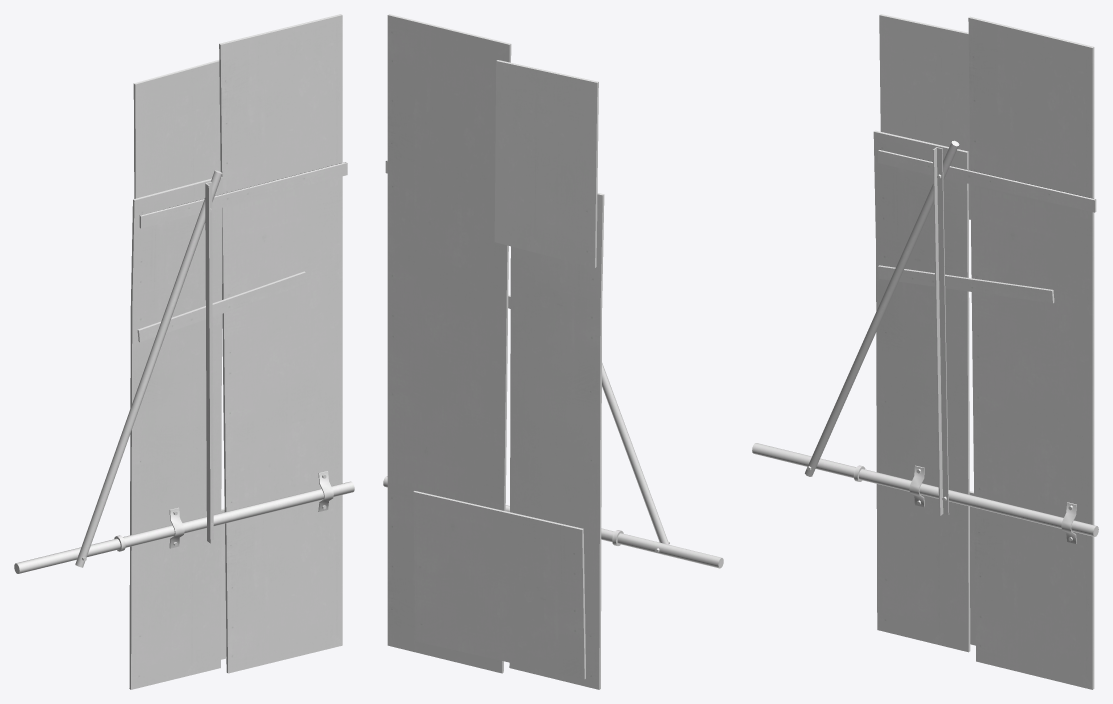
File: M_RunnerObjects_Wood_White_001.dae
The picture shows the model from 3 angles, left to right: view 1: azimuth 30°, elevation 25°; view 2: azimuth 150°, elevation 25°; view 3: azimuth 330°, elevation 25°; orthographic projection.
Parts seen in each view (by area): view 1: S_RunnerSign_02.001, S_RunnerSign_02.002; view 2: S_RunnerSign_02.001, S_RunnerSign_02.002; view 3: S_RunnerSign_02.001, S_RunnerSign_02.002.
Part boxes in pixels (bbox=[...]): S_RunnerSign_02.001: bbox=[129, 14, 347, 689]; S_RunnerSign_02.002: bbox=[14, 170, 354, 573]; S_RunnerSign_02.001: bbox=[386, 14, 604, 689]; S_RunnerSign_02.002: bbox=[383, 161, 723, 568]; S_RunnerSign_02.001: bbox=[873, 14, 1096, 689]; S_RunnerSign_02.002: bbox=[752, 140, 1098, 543].
Bounding box in the file's own units: 3.88 × 0.3035 × 6.98.
